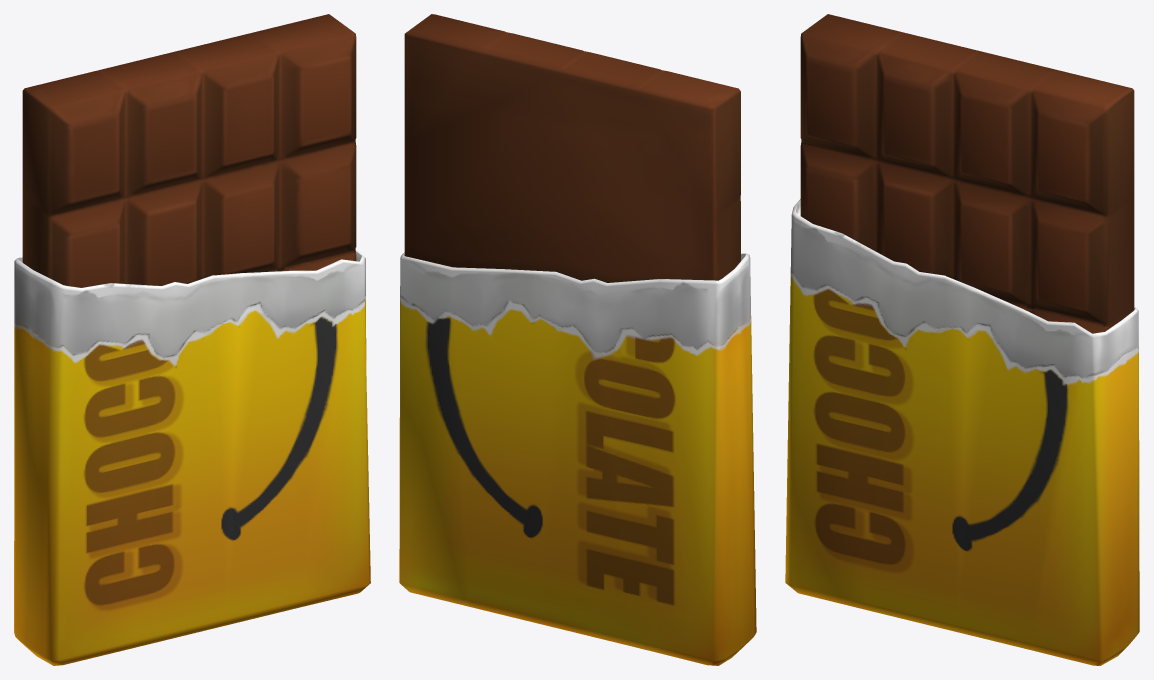
The model's file is QiaoKeLi.FBX.
3 renders of one model, left to right at view 1: azimuth 30°, elevation 25°; view 2: azimuth 150°, elevation 25°; view 3: azimuth 330°, elevation 25°, orthographic.
Visible parts, largest first — view 1: QiaoKeLi; view 2: QiaoKeLi; view 3: QiaoKeLi.
Part boxes in pixels (<box>): QiaoKeLi: <box>14,14,370,665</box>; QiaoKeLi: <box>399,14,756,665</box>; QiaoKeLi: <box>785,14,1139,665</box>.
Size of the model in its own units: 680 by 1110 by 153.
1 material, 1 textured.
